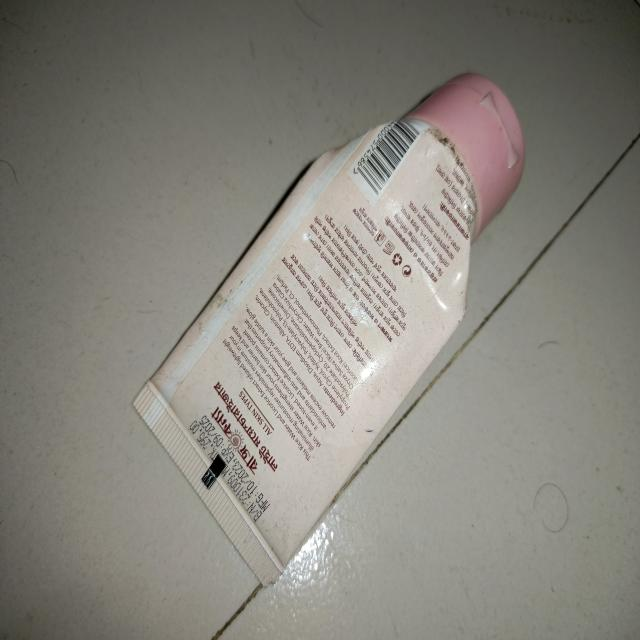Squeeze Tube: (123, 60, 554, 560)
